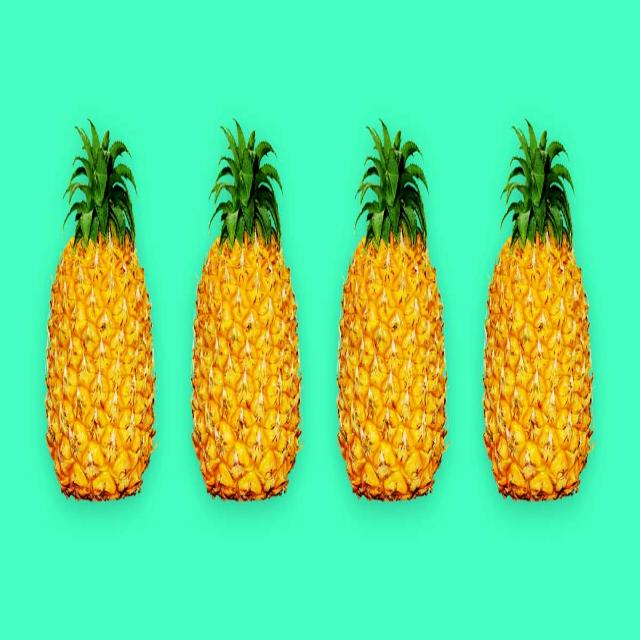Pineapple: (480, 165, 596, 506), (338, 168, 452, 508), (42, 178, 159, 500), (192, 180, 301, 499)
